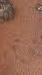plaque psoriasis: (0, 0, 15, 26), (34, 2, 42, 13)
